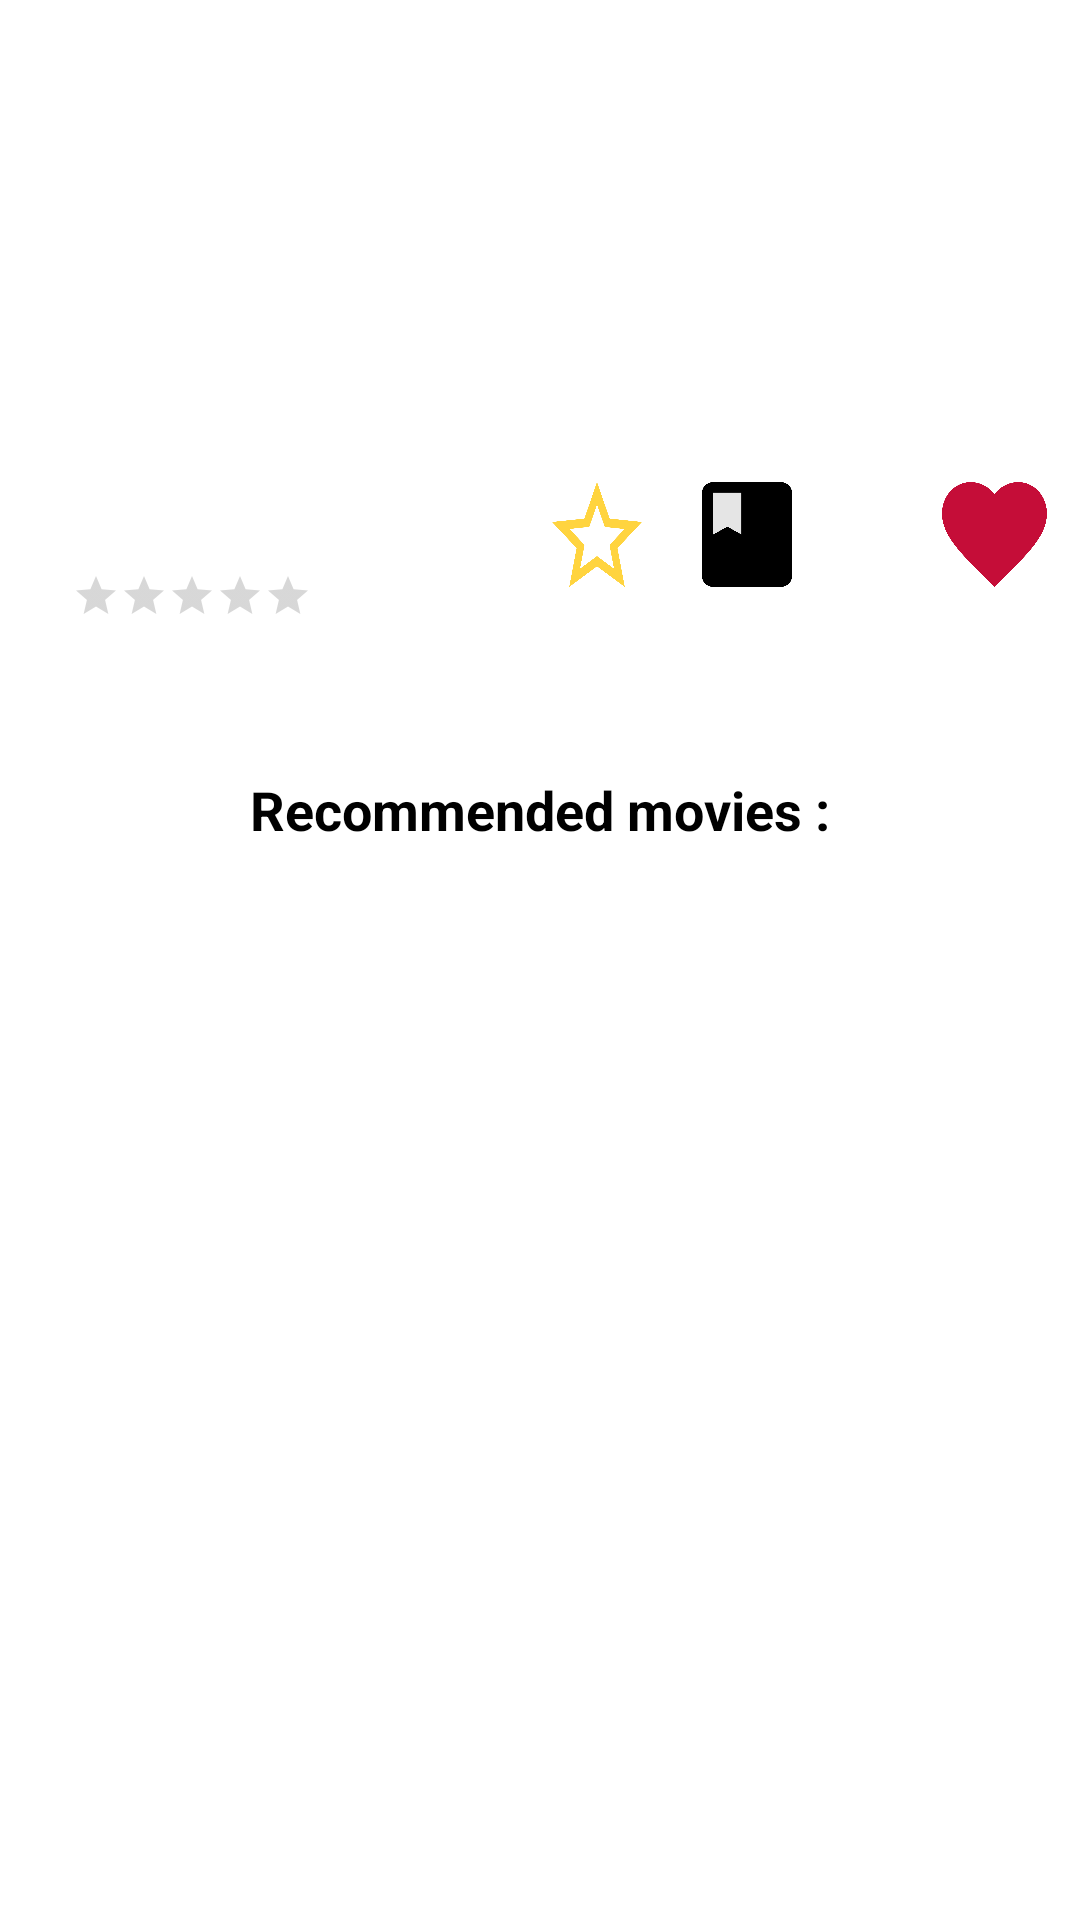

Named icons in this screenshot (1080px x 1920px) and their bounding boxes, (x1, y1, x2, y2):
heart: (942, 482, 1047, 587)
journal: (702, 482, 792, 587)
star: (552, 483, 642, 587)
